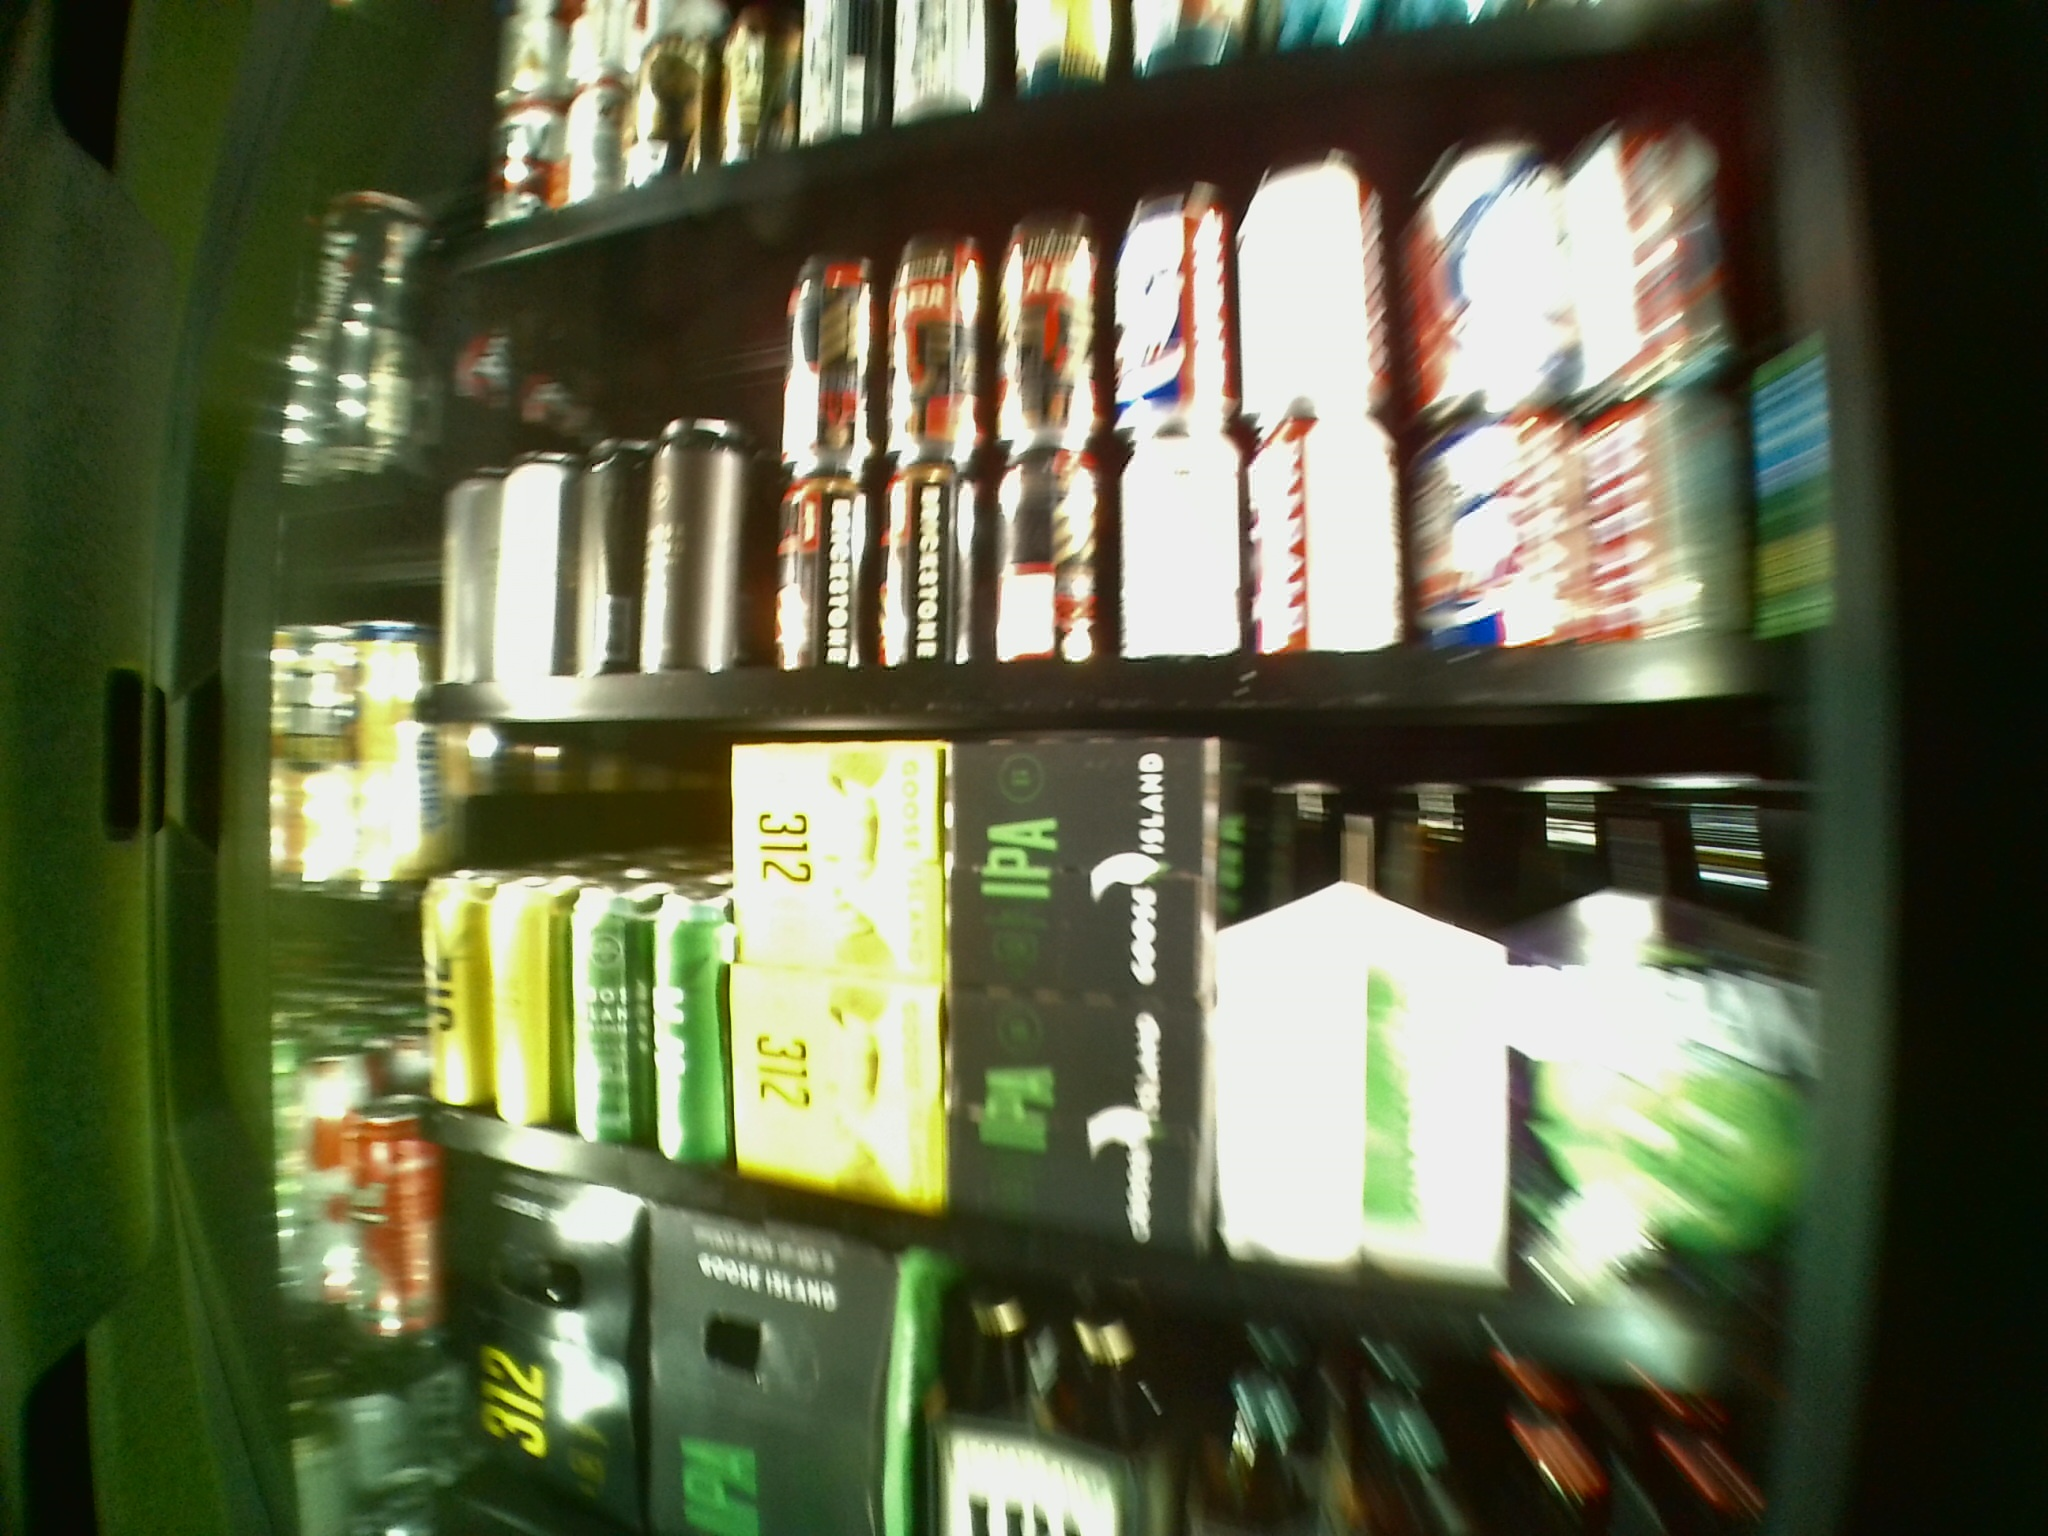shelf: (443, 715, 1803, 1313), (466, 136, 1804, 723)
